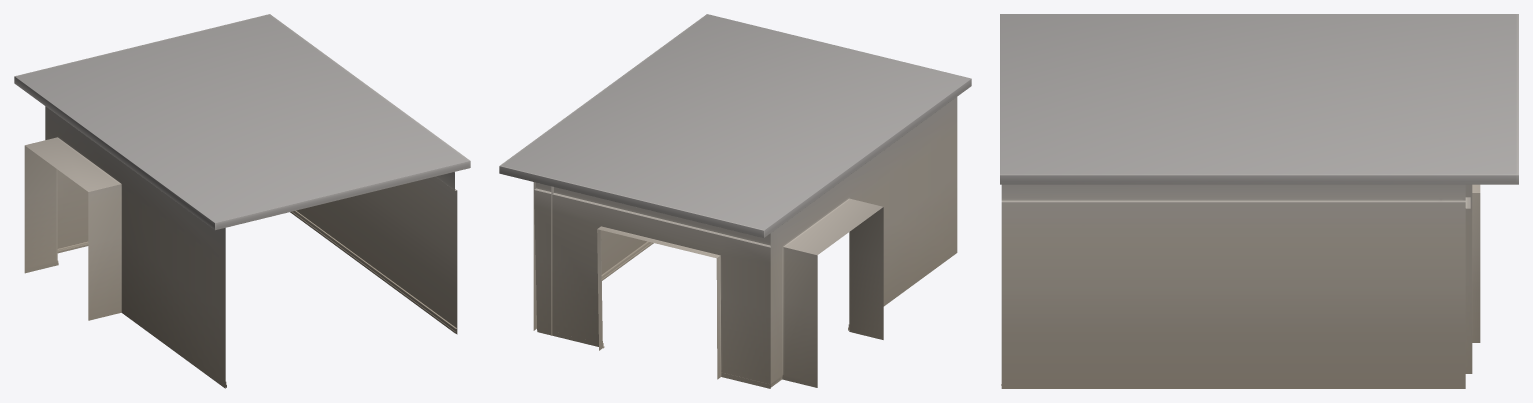
3 views of the same model, side by side, from view 1: azimuth 30°, elevation 25°; view 2: azimuth 150°, elevation 25°; view 3: azimuth 270°, elevation 25° (orthographic). The views are drawn at different scales.
Parts seen in each view (by area): view 1: 平面.050; view 2: 平面.050; view 3: 平面.050.
Boxes of the visible parts, box(x1,y1,x2,y2) form: 平面.050: box(14, 14, 470, 388); 平面.050: box(499, 14, 971, 388); 平面.050: box(1000, 14, 1518, 388).
Size of the model in its own units: 736 by 436 by 926.
1 material, 1 textured.
